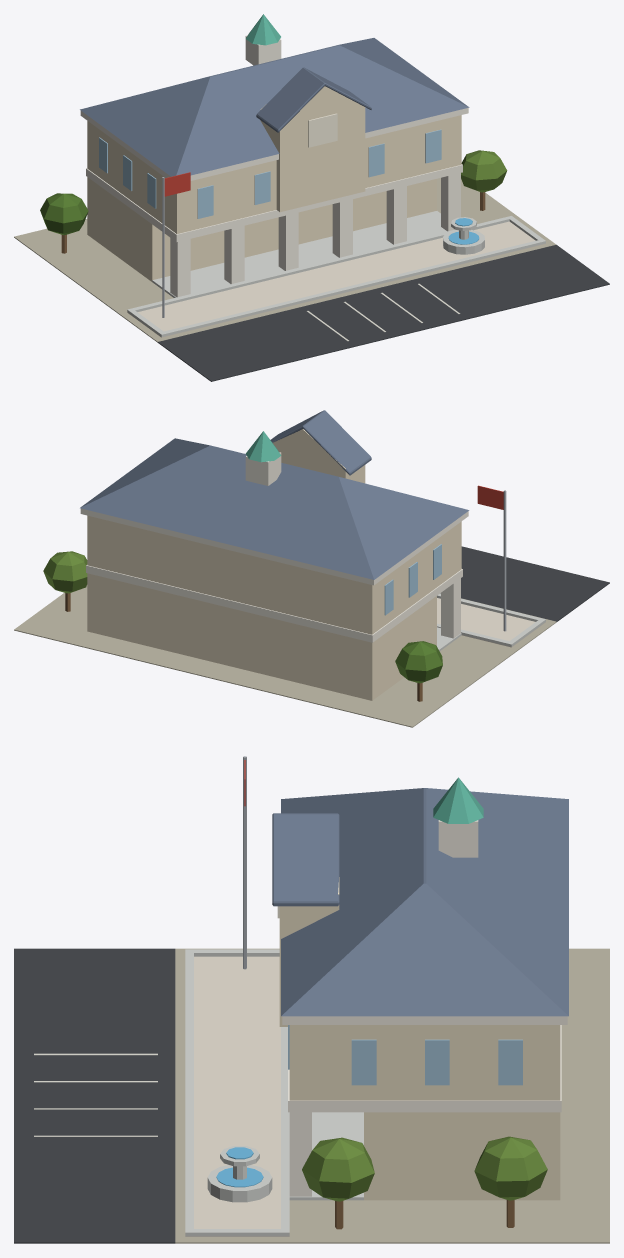
Rendered from villagehall.glb.
3 renders of one model, top to bottom at view 1: azimuth 30°, elevation 25°; view 2: azimuth 150°, elevation 25°; view 3: azimuth 270°, elevation 25°, orthographic. The views are drawn at different scales.
Visible parts, largest first — view 1: villagehall; view 2: villagehall; view 3: villagehall.
Boxes of the visible parts, box(x1,y1,x2,y2) form: villagehall: box(14, 14, 609, 381); villagehall: box(14, 410, 609, 727); villagehall: box(14, 756, 609, 1243).
Bounding box in the file's own units: 28.05 × 14.2 × 24.
